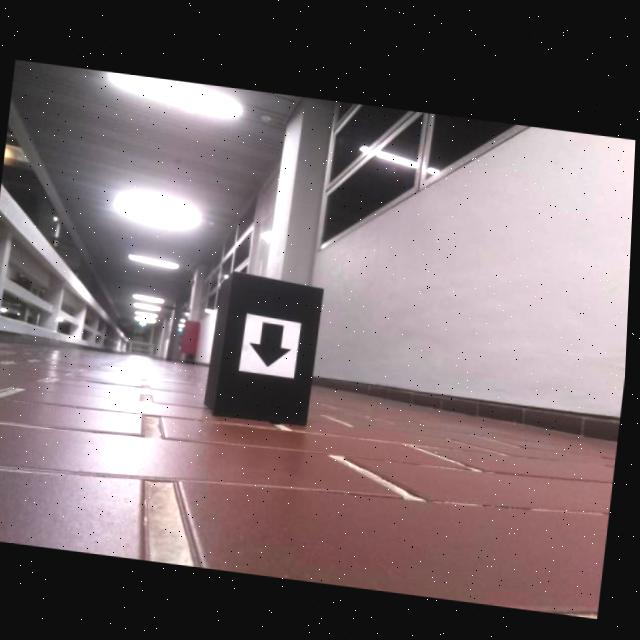DOWN: (251, 318, 295, 364)
